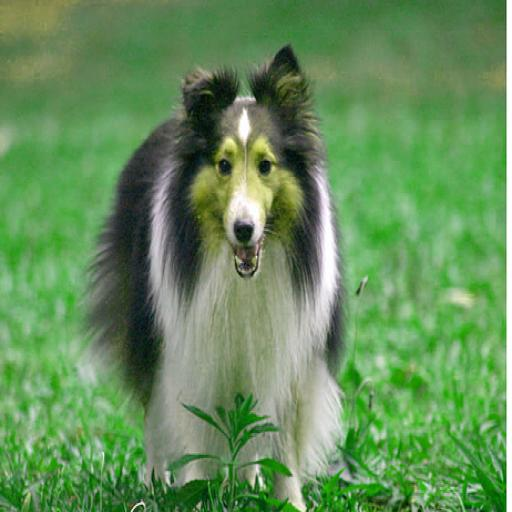dog_face: (183, 52, 312, 282)
